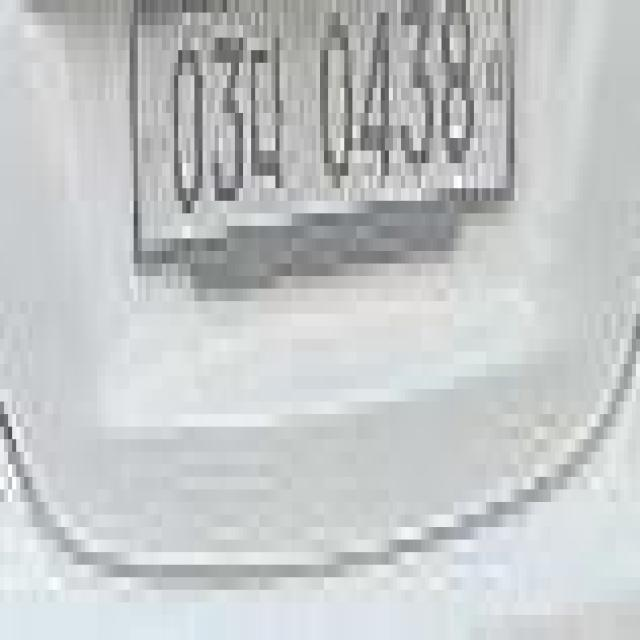illegal_plate: (125, 0, 523, 272)
